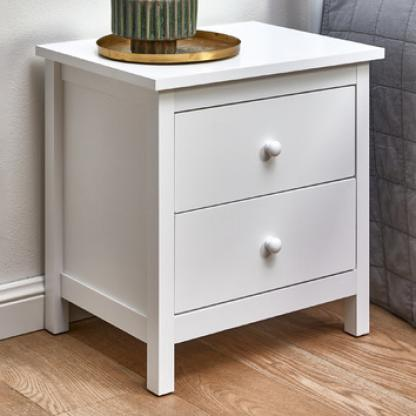Nightstand: (29, 14, 389, 401)
